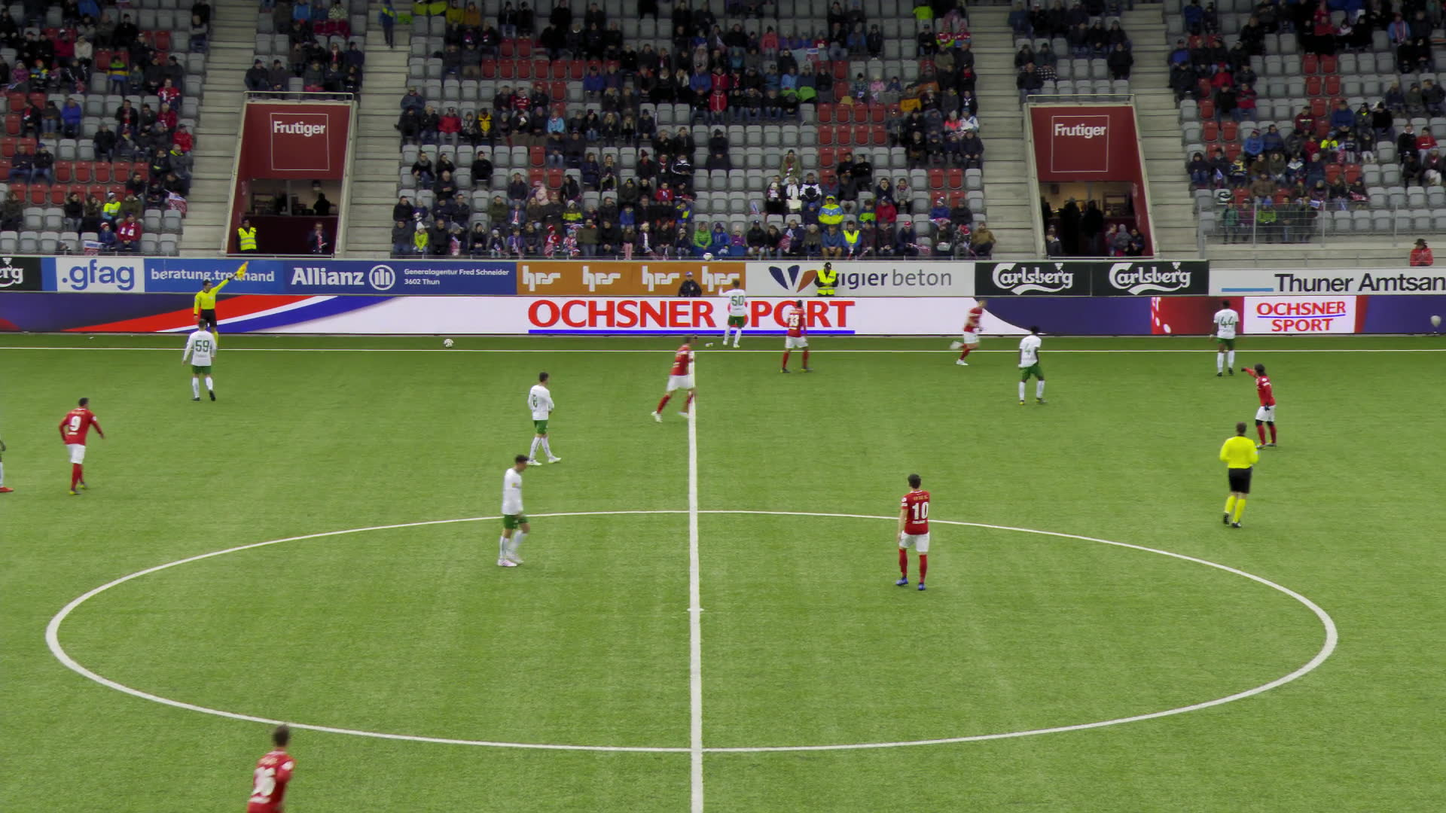ball: (444, 337, 455, 348)
player: (478, 455, 535, 568), (54, 394, 103, 497), (237, 724, 294, 812), (889, 474, 931, 590), (642, 335, 696, 421), (937, 294, 985, 366), (523, 370, 559, 465), (1238, 361, 1275, 447), (181, 318, 215, 402), (1014, 325, 1047, 406), (774, 300, 810, 373), (1209, 297, 1240, 376), (716, 279, 745, 348)
referee: (191, 257, 246, 349), (1213, 418, 1255, 527)
